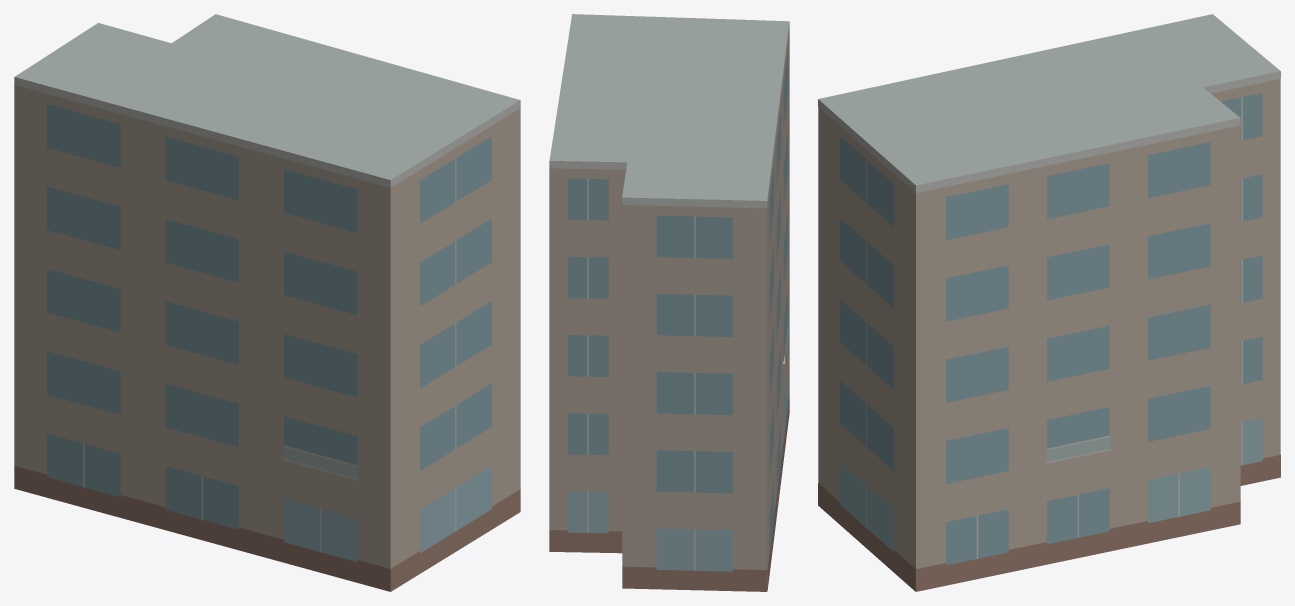
The model's file is survey-upis-32748802.glb.
3 renders of one model, left to right at view 1: azimuth 30°, elevation 25°; view 2: azimuth 150°, elevation 25°; view 3: azimuth 270°, elevation 25°, orthographic. The views are drawn at different scales.
Visible parts, largest first — view 1: survey-upis-32748802.tmp; view 2: survey-upis-32748802.tmp; view 3: survey-upis-32748802.tmp.
Part boxes in pixels (x1=…): survey-upis-32748802.tmp: x1=14, y1=14, x2=520, y2=591; survey-upis-32748802.tmp: x1=549, y1=14, x2=789, y2=591; survey-upis-32748802.tmp: x1=818, y1=14, x2=1280, y2=591.
Size of the model in its own units: 11.64 by 12.85 by 13.27.
